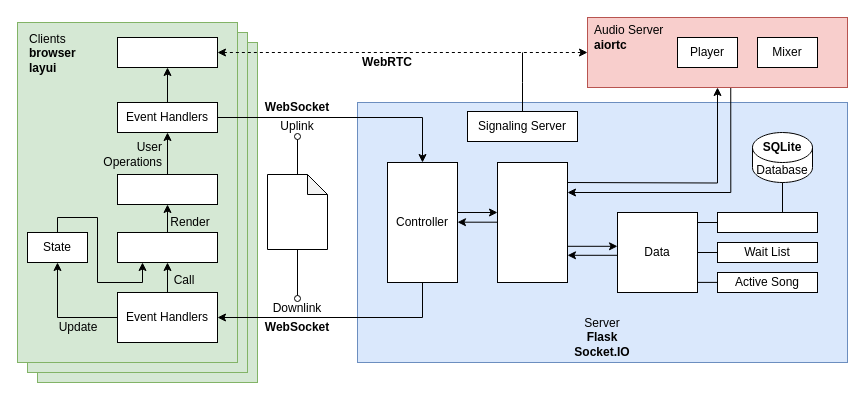
This 865x400 diagram has some shape labels left out. Here are the shapes that lost their labels. From the top down, the centre of each, then its label:
At pixel 167 52: "Audio Module".
At pixel 167 189: "Page".
At pixel 297 212: "protobuf".
At pixel 532 222: "Service".
At pixel 767 222: "Music Library".
At pixel 167 247: "Renderers".
